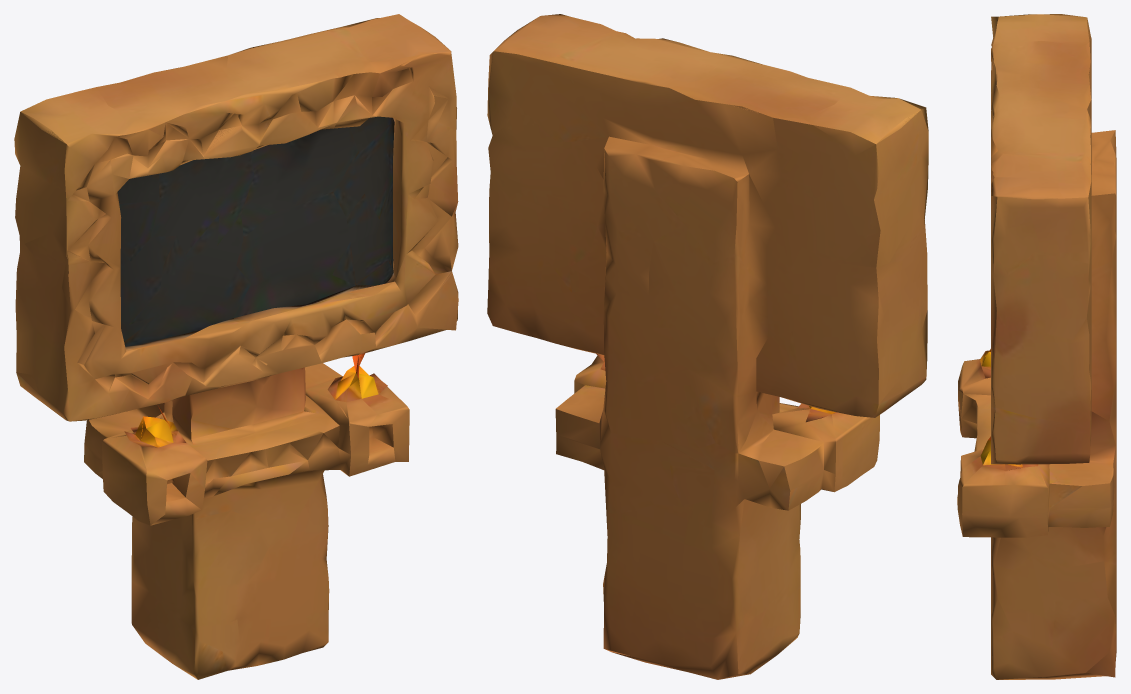
File: desierto_pantalla.glb
3 views of the same model, side by side, from view 1: azimuth 30°, elevation 25°; view 2: azimuth 150°, elevation 25°; view 3: azimuth 270°, elevation 25° (orthographic). The views are drawn at different scales.
Parts seen in each view (by area): view 1: tripo_node_60873fd4-9207-4658-8aa6-e010c6ecfd4b; view 2: tripo_node_60873fd4-9207-4658-8aa6-e010c6ecfd4b; view 3: tripo_node_60873fd4-9207-4658-8aa6-e010c6ecfd4b.
Boxes of the visible parts, bbox=[...] form: tripo_node_60873fd4-9207-4658-8aa6-e010c6ecfd4b: bbox=[14, 14, 458, 679]; tripo_node_60873fd4-9207-4658-8aa6-e010c6ecfd4b: bbox=[487, 14, 928, 679]; tripo_node_60873fd4-9207-4658-8aa6-e010c6ecfd4b: bbox=[957, 14, 1116, 679].
Bounding box in the file's own units: 0.724 × 1 × 0.2629.
Materials: 1 (1 with a texture image).
